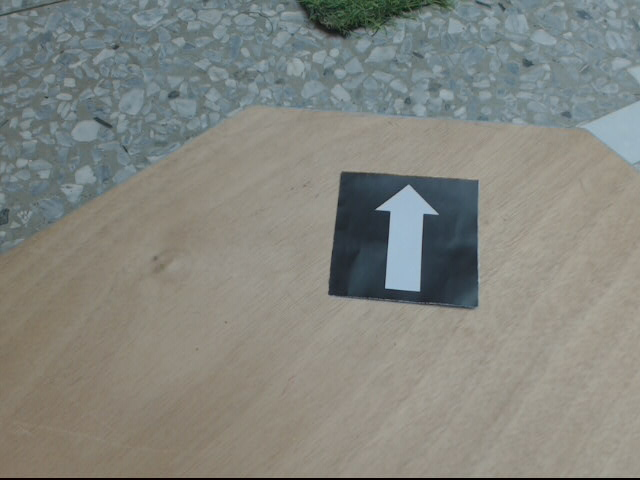straight: (327, 171, 480, 307)
